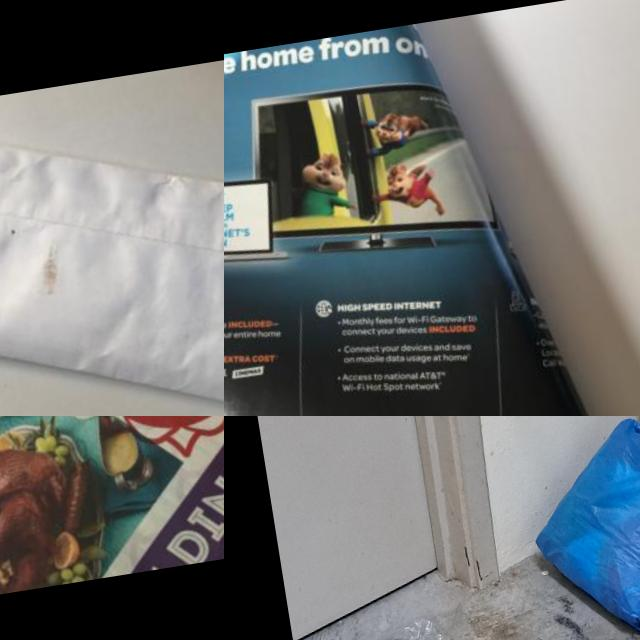garrafa plástica: (398, 614, 470, 640)
papel: (224, 3, 623, 416), (0, 73, 224, 416), (0, 416, 224, 627)
sacola plástica: (518, 416, 640, 640)
